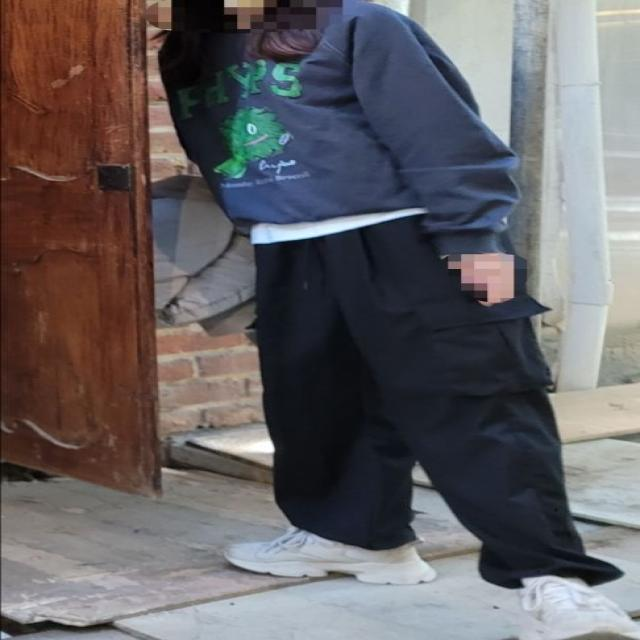cottonpants: (258, 213, 610, 591)
mtm: (156, 0, 516, 249)
